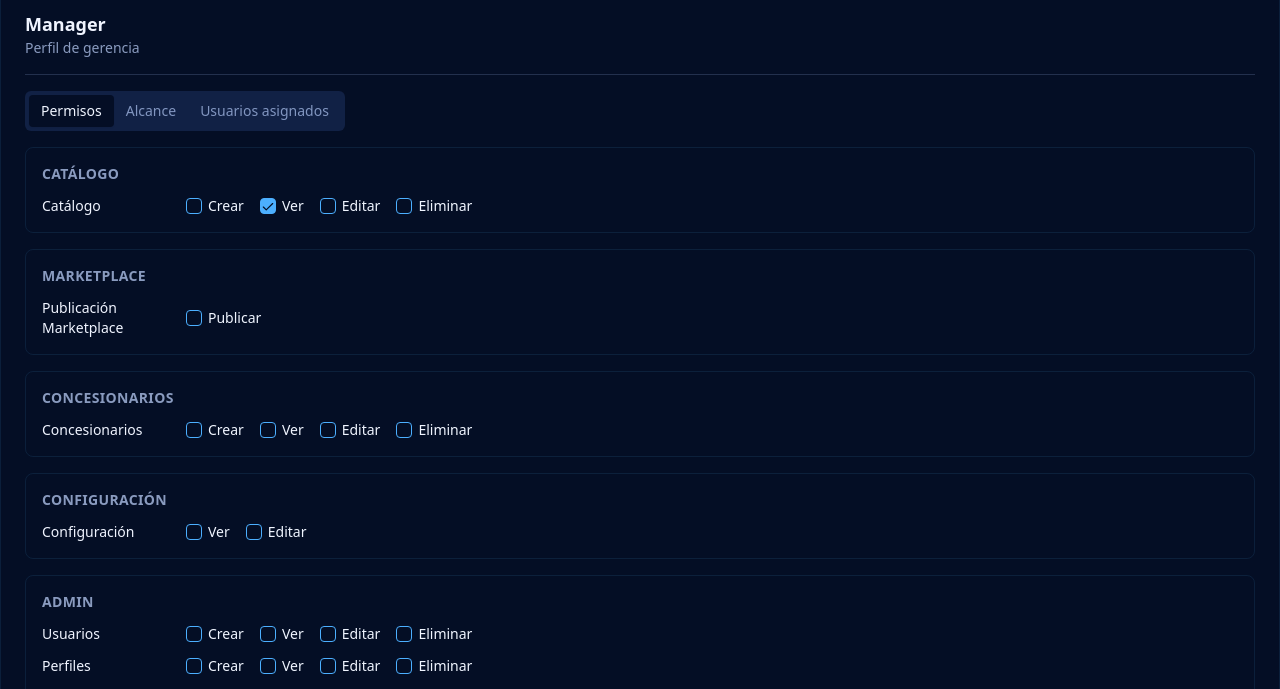
Test case: RoleDetailPanel › disables Guardar cambios until something changes
Click the checkbox named "catalog:create" at (194, 206), box [186, 198, 202, 214]
(page scrolled)
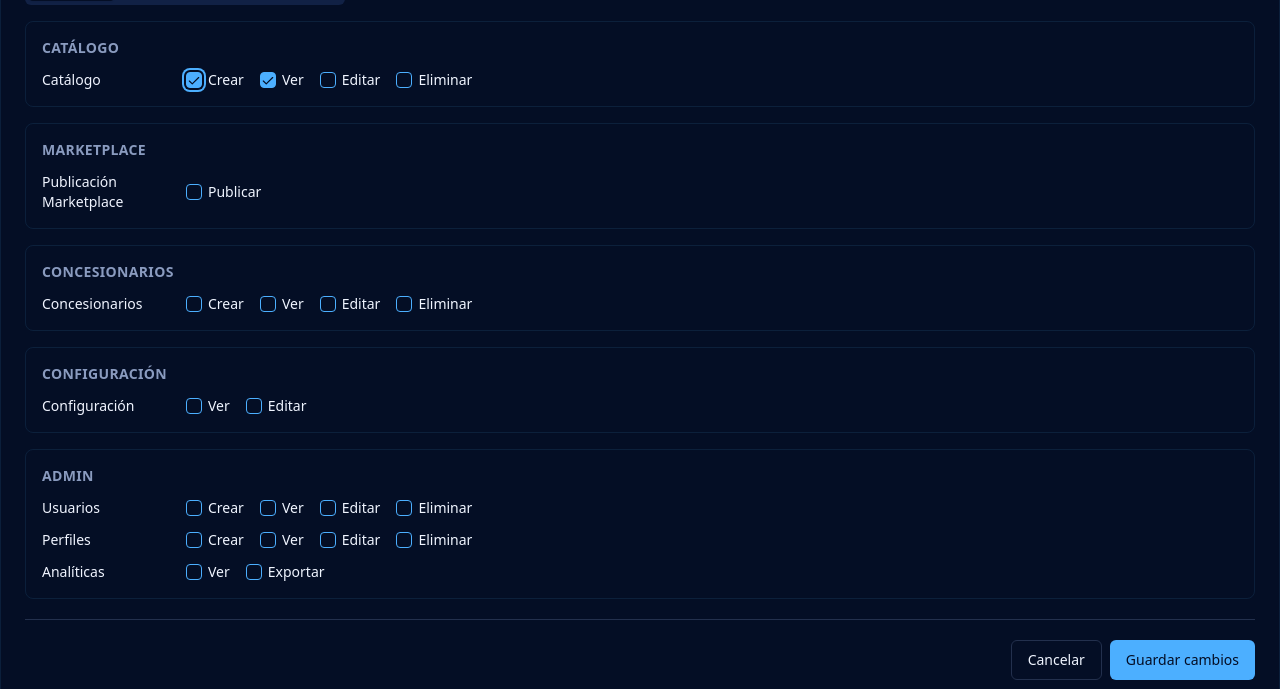
Result: the button "Guardar cambios" is enabled at [1110, 640, 1255, 680]
